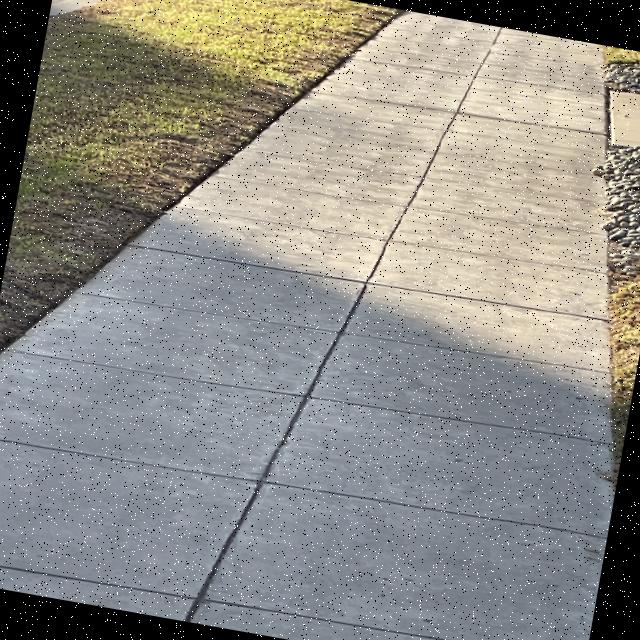curb: (50, 0, 207, 30)
walkway: (0, 365, 612, 640), (69, 276, 610, 526), (181, 176, 601, 430), (281, 87, 601, 298), (382, 17, 599, 181)
walkway-edge: (539, 139, 640, 450), (567, 43, 640, 170)
